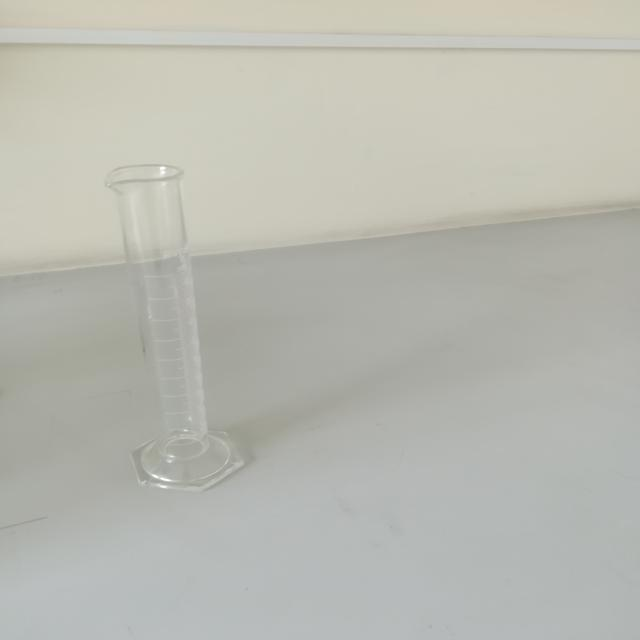Measuring_Cylinder: (52, 134, 270, 509)
